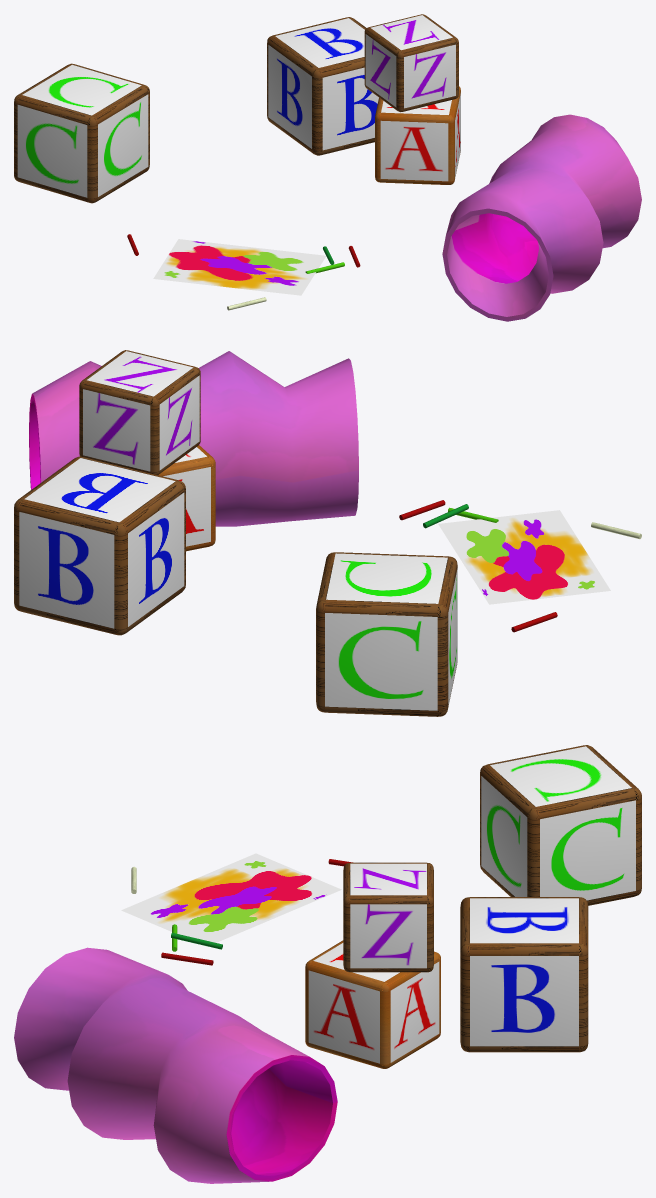
File: play_area.FBX
3 renders of one model, top to bottom at view 1: azimuth 30°, elevation 25°; view 2: azimuth 150°, elevation 25°; view 3: azimuth 270°, elevation 25°, orthographic. The views are drawn at different scales.
Parts seen in each view (by area): view 1: Tube001, Box013, Box011, Box014, Box012, Plane001; view 2: Tube001, Box011, Box013, Box014, Plane001, Box012; view 3: Tube001, Box013, Box011, Box012, Box014, Plane001.
Part boxes in pixels (box(x1,y1,x2,y2)): Tube001: box(442, 114, 641, 321); Box013: box(14, 63, 149, 203); Box011: box(267, 17, 378, 155); Box014: box(364, 14, 458, 112); Box012: box(375, 86, 460, 184); Plane001: box(153, 239, 326, 295); Tube001: box(29, 351, 358, 526); Box011: box(14, 456, 185, 635); Box013: box(316, 552, 457, 716); Box014: box(79, 350, 200, 474); Plane001: box(438, 510, 610, 604); Box012: box(158, 445, 215, 551); Tube001: box(14, 947, 337, 1183); Box013: box(480, 745, 641, 905); Box011: box(460, 897, 588, 1052); Box012: box(305, 940, 440, 1068); Box014: box(343, 862, 433, 972); Plane001: box(121, 853, 341, 946).
Bounding box in the file's own units: 131 × 51.53 × 122.
